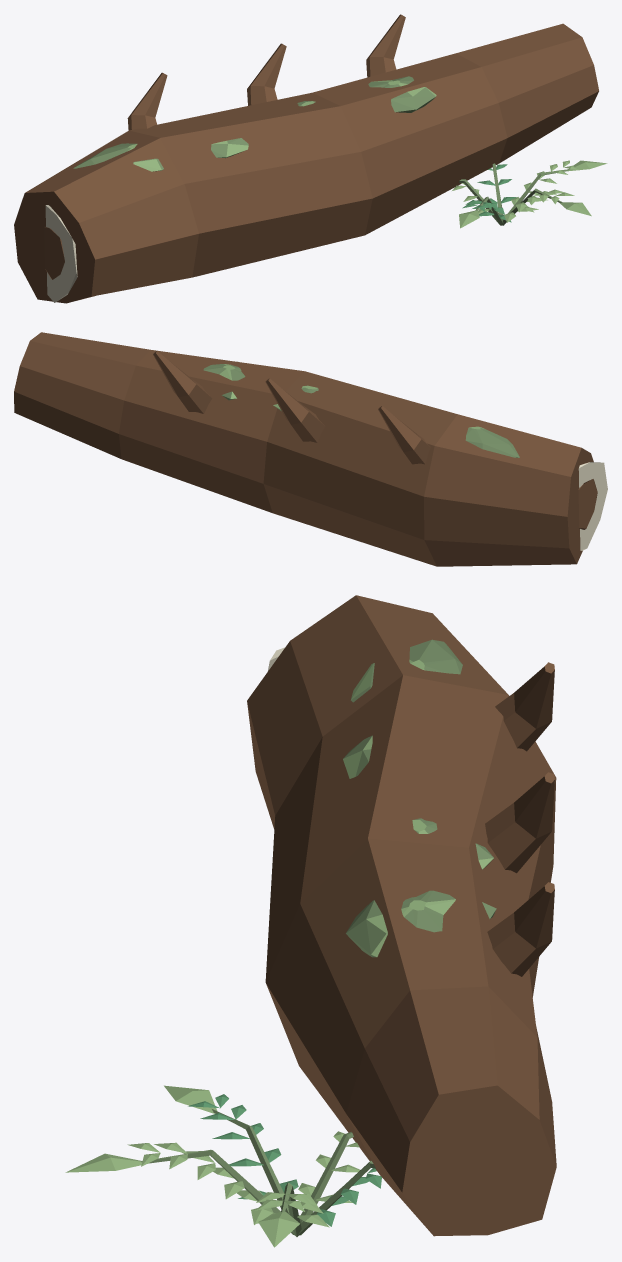
File: fallen_log.glb
3 renders of one model, top to bottom at view 1: azimuth 30°, elevation 25°; view 2: azimuth 150°, elevation 25°; view 3: azimuth 270°, elevation 25°, orthographic. The views are drawn at different scales.
Visible parts, largest first — view 1: fallen_log / mesh; view 2: fallen_log / mesh; view 3: fallen_log / mesh.
Part boxes in pixels (x1,y1,x2,y2): fallen_log / mesh: (14,14,607,303); fallen_log / mesh: (14,332,607,566); fallen_log / mesh: (65,595,556,1247).
Bounding box in the file's own units: 5.27 × 1.5 × 2.08.
